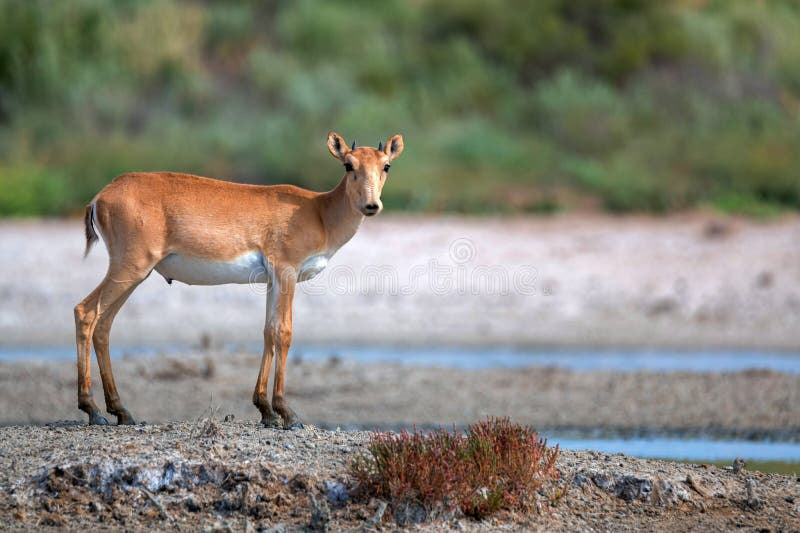saiga: (69, 134, 403, 438)
